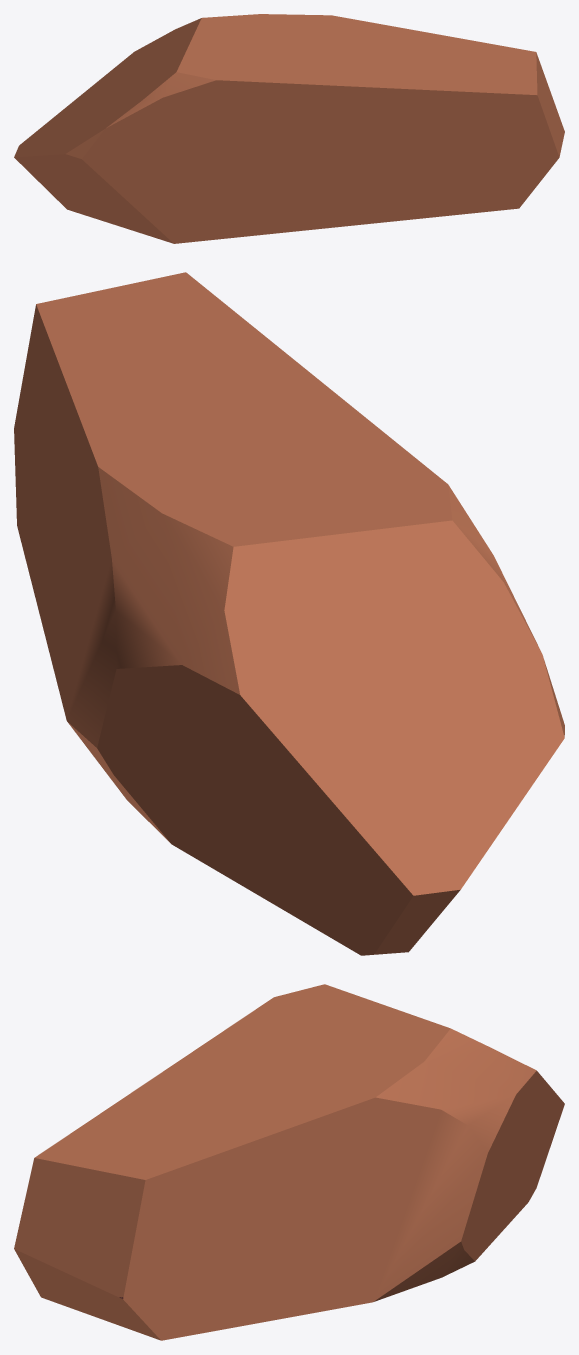
File: Rock_09.fbx
3 renders of one model, top to bottom at view 1: azimuth 30°, elevation 25°; view 2: azimuth 150°, elevation 25°; view 3: azimuth 270°, elevation 25°, orthographic. The views are drawn at different scales.
Visible parts, largest first — view 1: Rock_09; view 2: Rock_09; view 3: Rock_09.
Part boxes in pixels (x1=…): Rock_09: x1=14, y1=14, x2=564, y2=243; Rock_09: x1=14, y1=272, x2=564, y2=955; Rock_09: x1=14, y1=984, x2=564, y2=1340.
Size of the model in its own units: 301 by 128 by 267.
